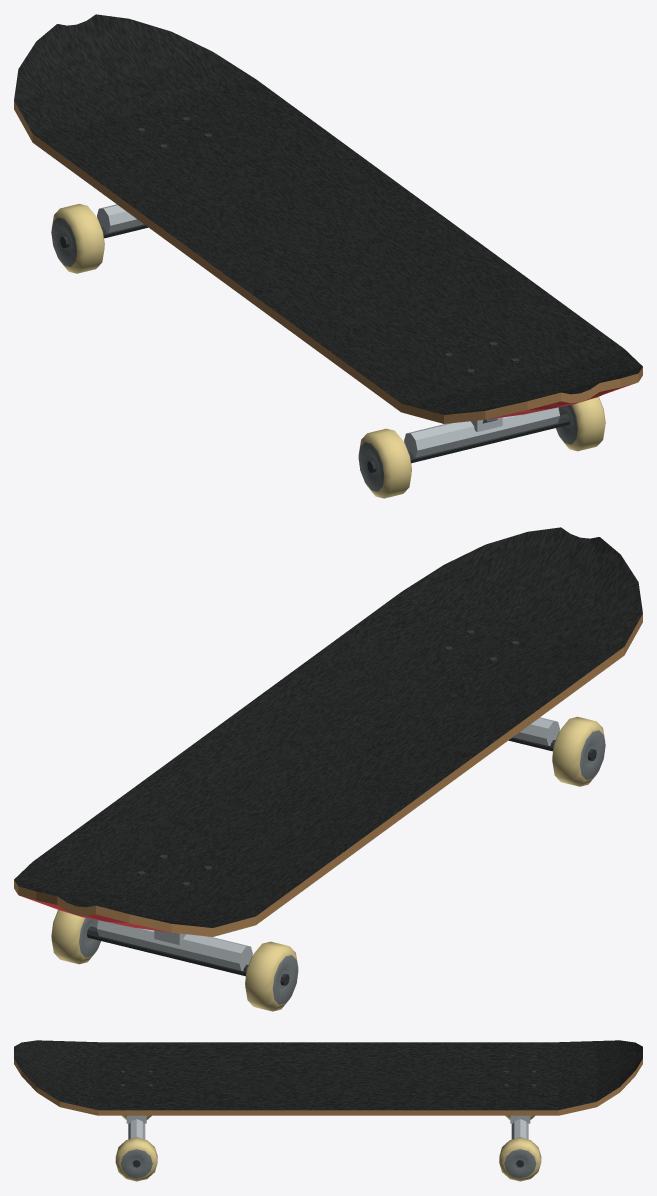
Rendered from 02_Static_Weekend.glb.
3 renders of one model, top to bottom at view 1: azimuth 30°, elevation 25°; view 2: azimuth 150°, elevation 25°; view 3: azimuth 270°, elevation 25°, orthographic. The views are drawn at different scales.
Parts seen in each view (by area): view 1: Deck_Static_Weekend, Truck_Rear_Static_Weekend, Wheel_FrontL_Static_Weekend, Wheel_RearL_Static_Weekend, Wheel_RearR_Static_Weekend, Truck_Front_Static_Weekend; view 2: Deck_Static_Weekend, Truck_Front_Static_Weekend, Wheel_RearL_Static_Weekend, Wheel_FrontL_Static_Weekend, Wheel_FrontR_Static_Weekend, Truck_Rear_Static_Weekend; view 3: Deck_Static_Weekend, Wheel_FrontR_Static_Weekend, Wheel_RearR_Static_Weekend, Truck_Front_Static_Weekend, Truck_Rear_Static_Weekend.
Boxes of the visible parts, x1,y1,x2,y2 form: Deck_Static_Weekend: [14, 14, 642, 423]; Truck_Rear_Static_Weekend: [367, 407, 570, 472]; Wheel_FrontL_Static_Weekend: [51, 203, 104, 273]; Wheel_RearL_Static_Weekend: [358, 428, 411, 498]; Wheel_RearR_Static_Weekend: [556, 397, 605, 451]; Truck_Front_Static_Weekend: [60, 204, 148, 247]; Deck_Static_Weekend: [14, 527, 642, 936]; Truck_Front_Static_Weekend: [86, 920, 289, 985]; Wheel_RearL_Static_Weekend: [552, 716, 605, 786]; Wheel_FrontL_Static_Weekend: [245, 941, 298, 1011]; Wheel_FrontR_Static_Weekend: [51, 910, 100, 964]; Truck_Rear_Static_Weekend: [508, 717, 596, 760]; Deck_Static_Weekend: [14, 1040, 642, 1115]; Wheel_FrontR_Static_Weekend: [499, 1137, 541, 1181]; Wheel_RearR_Static_Weekend: [115, 1137, 157, 1181]; Truck_Front_Static_Weekend: [508, 1115, 530, 1167]; Truck_Rear_Static_Weekend: [125, 1115, 146, 1167].
Size of the model in its own units: 0.21 by 0.139 by 0.82.
8 materials, 2 textured.
